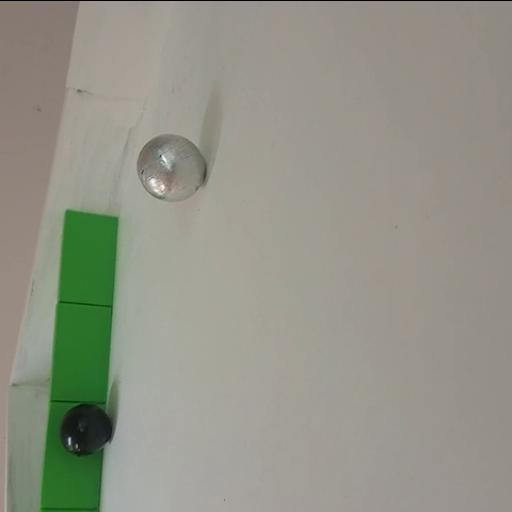alive: (137, 134, 205, 202)
dead: (60, 402, 112, 454)
